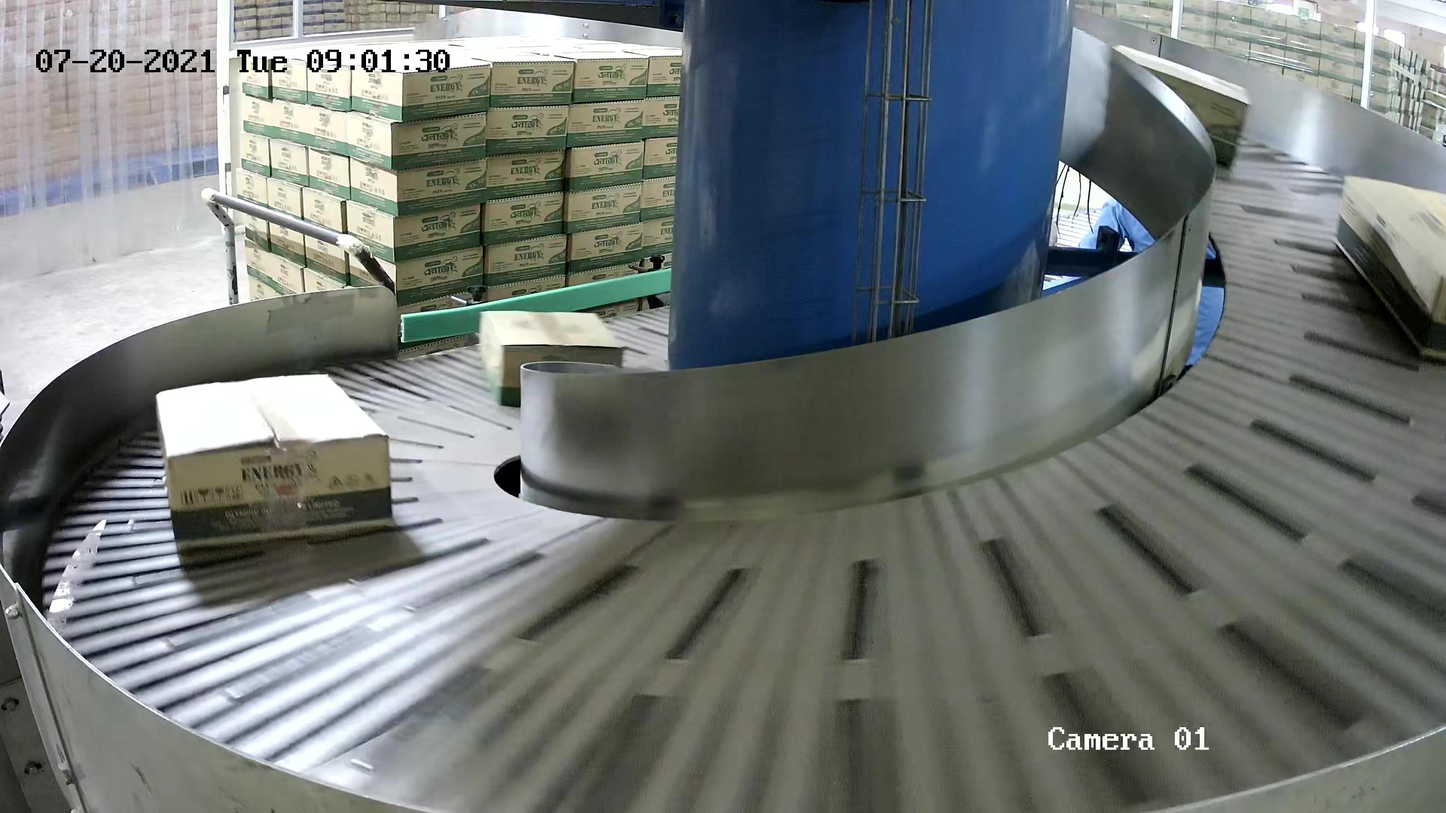Box: (153, 371, 399, 554), (1330, 172, 1446, 362), (1109, 43, 1254, 172), (476, 308, 625, 407)
